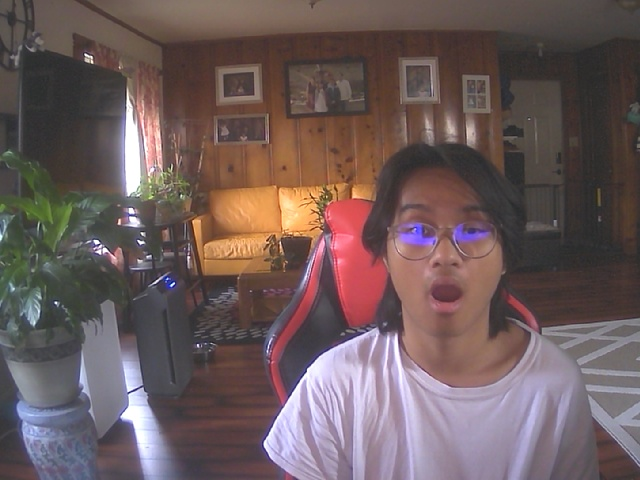fear: (378, 159, 507, 339)
